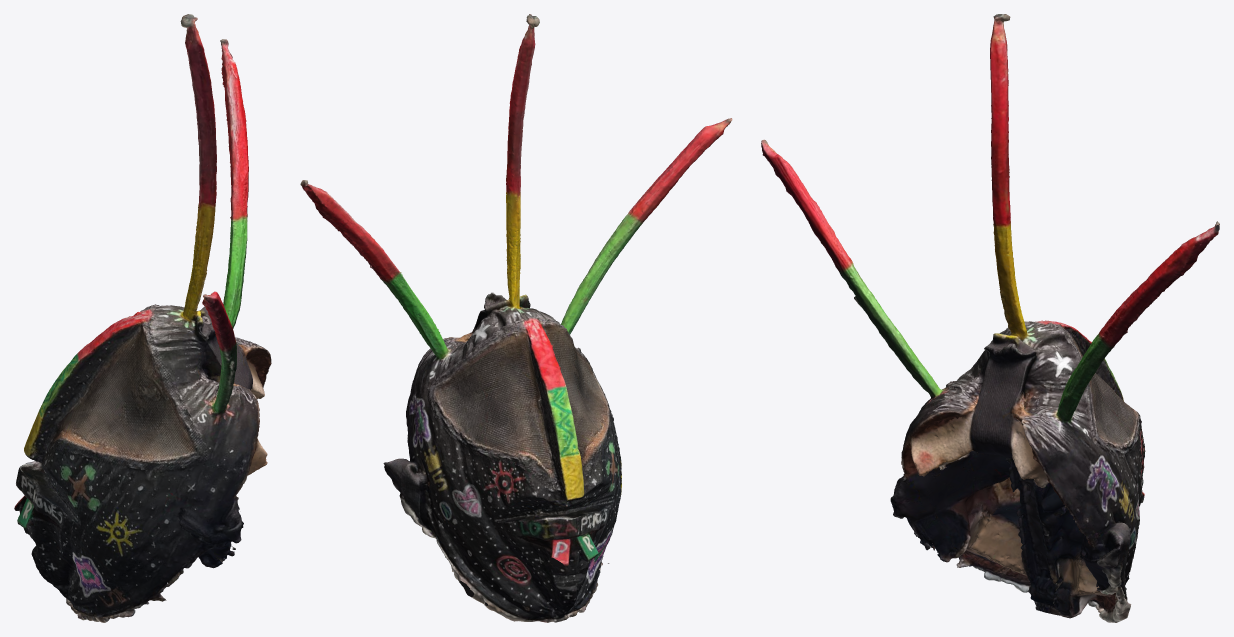
File: vejigante-mask-4.glb
The picture shows the model from 3 angles, left to right: view 1: azimuth 30°, elevation 25°; view 2: azimuth 150°, elevation 25°; view 3: azimuth 270°, elevation 25°; orthographic projection. The views are drawn at different scales.
Parts seen in each view (by area): view 1: 3DModel; view 2: 3DModel; view 3: 3DModel.
Part boxes in pixels (bbox=[...]): 3DModel: bbox=[14, 14, 271, 622]; 3DModel: bbox=[300, 14, 732, 622]; 3DModel: bbox=[761, 14, 1219, 622].
Size of the model in its own units: 9.81 by 21.64 by 14.42.
1 material, 1 textured.
